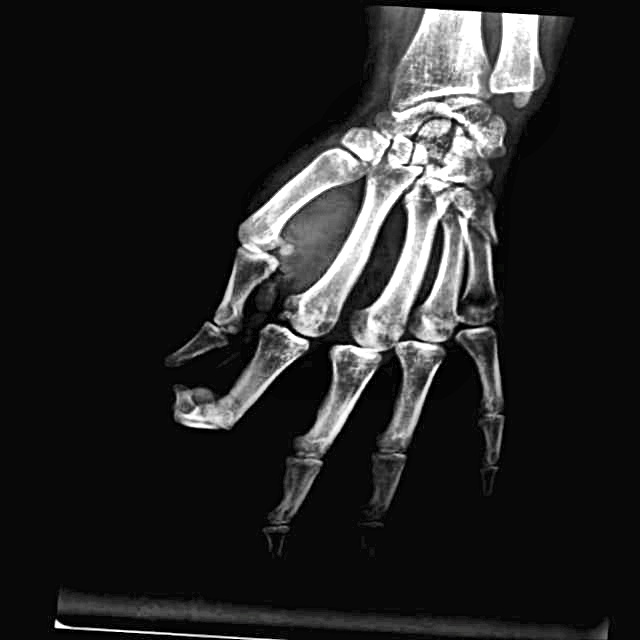Comminuted: (165, 372, 241, 453)
Oblique Displaced: (447, 188, 520, 265)
